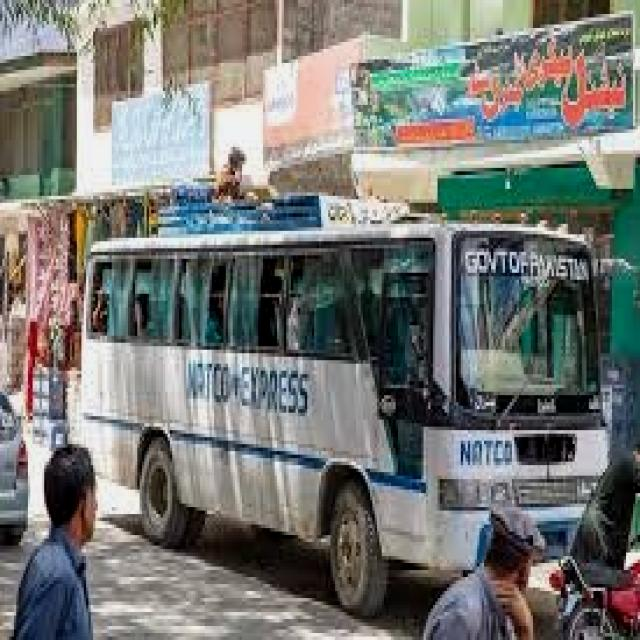bus: (68, 209, 633, 596)
